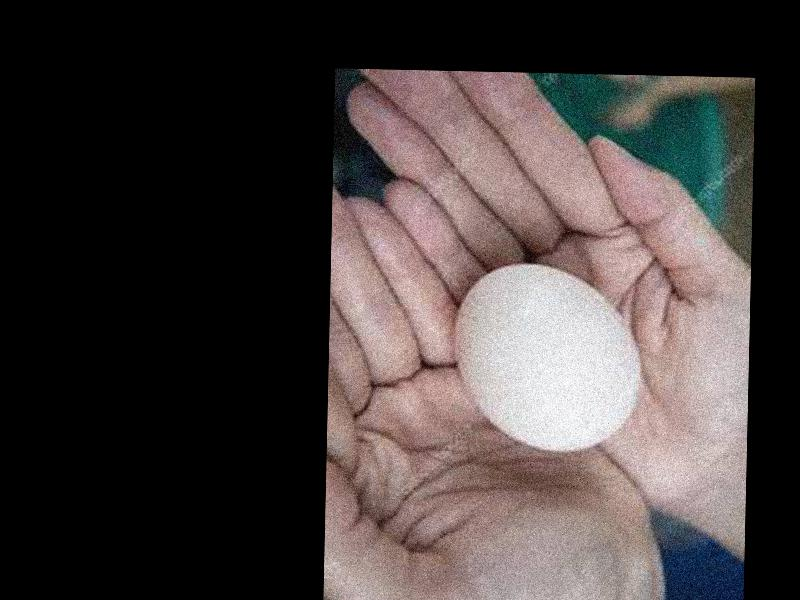Eggs: (457, 262, 638, 451)
